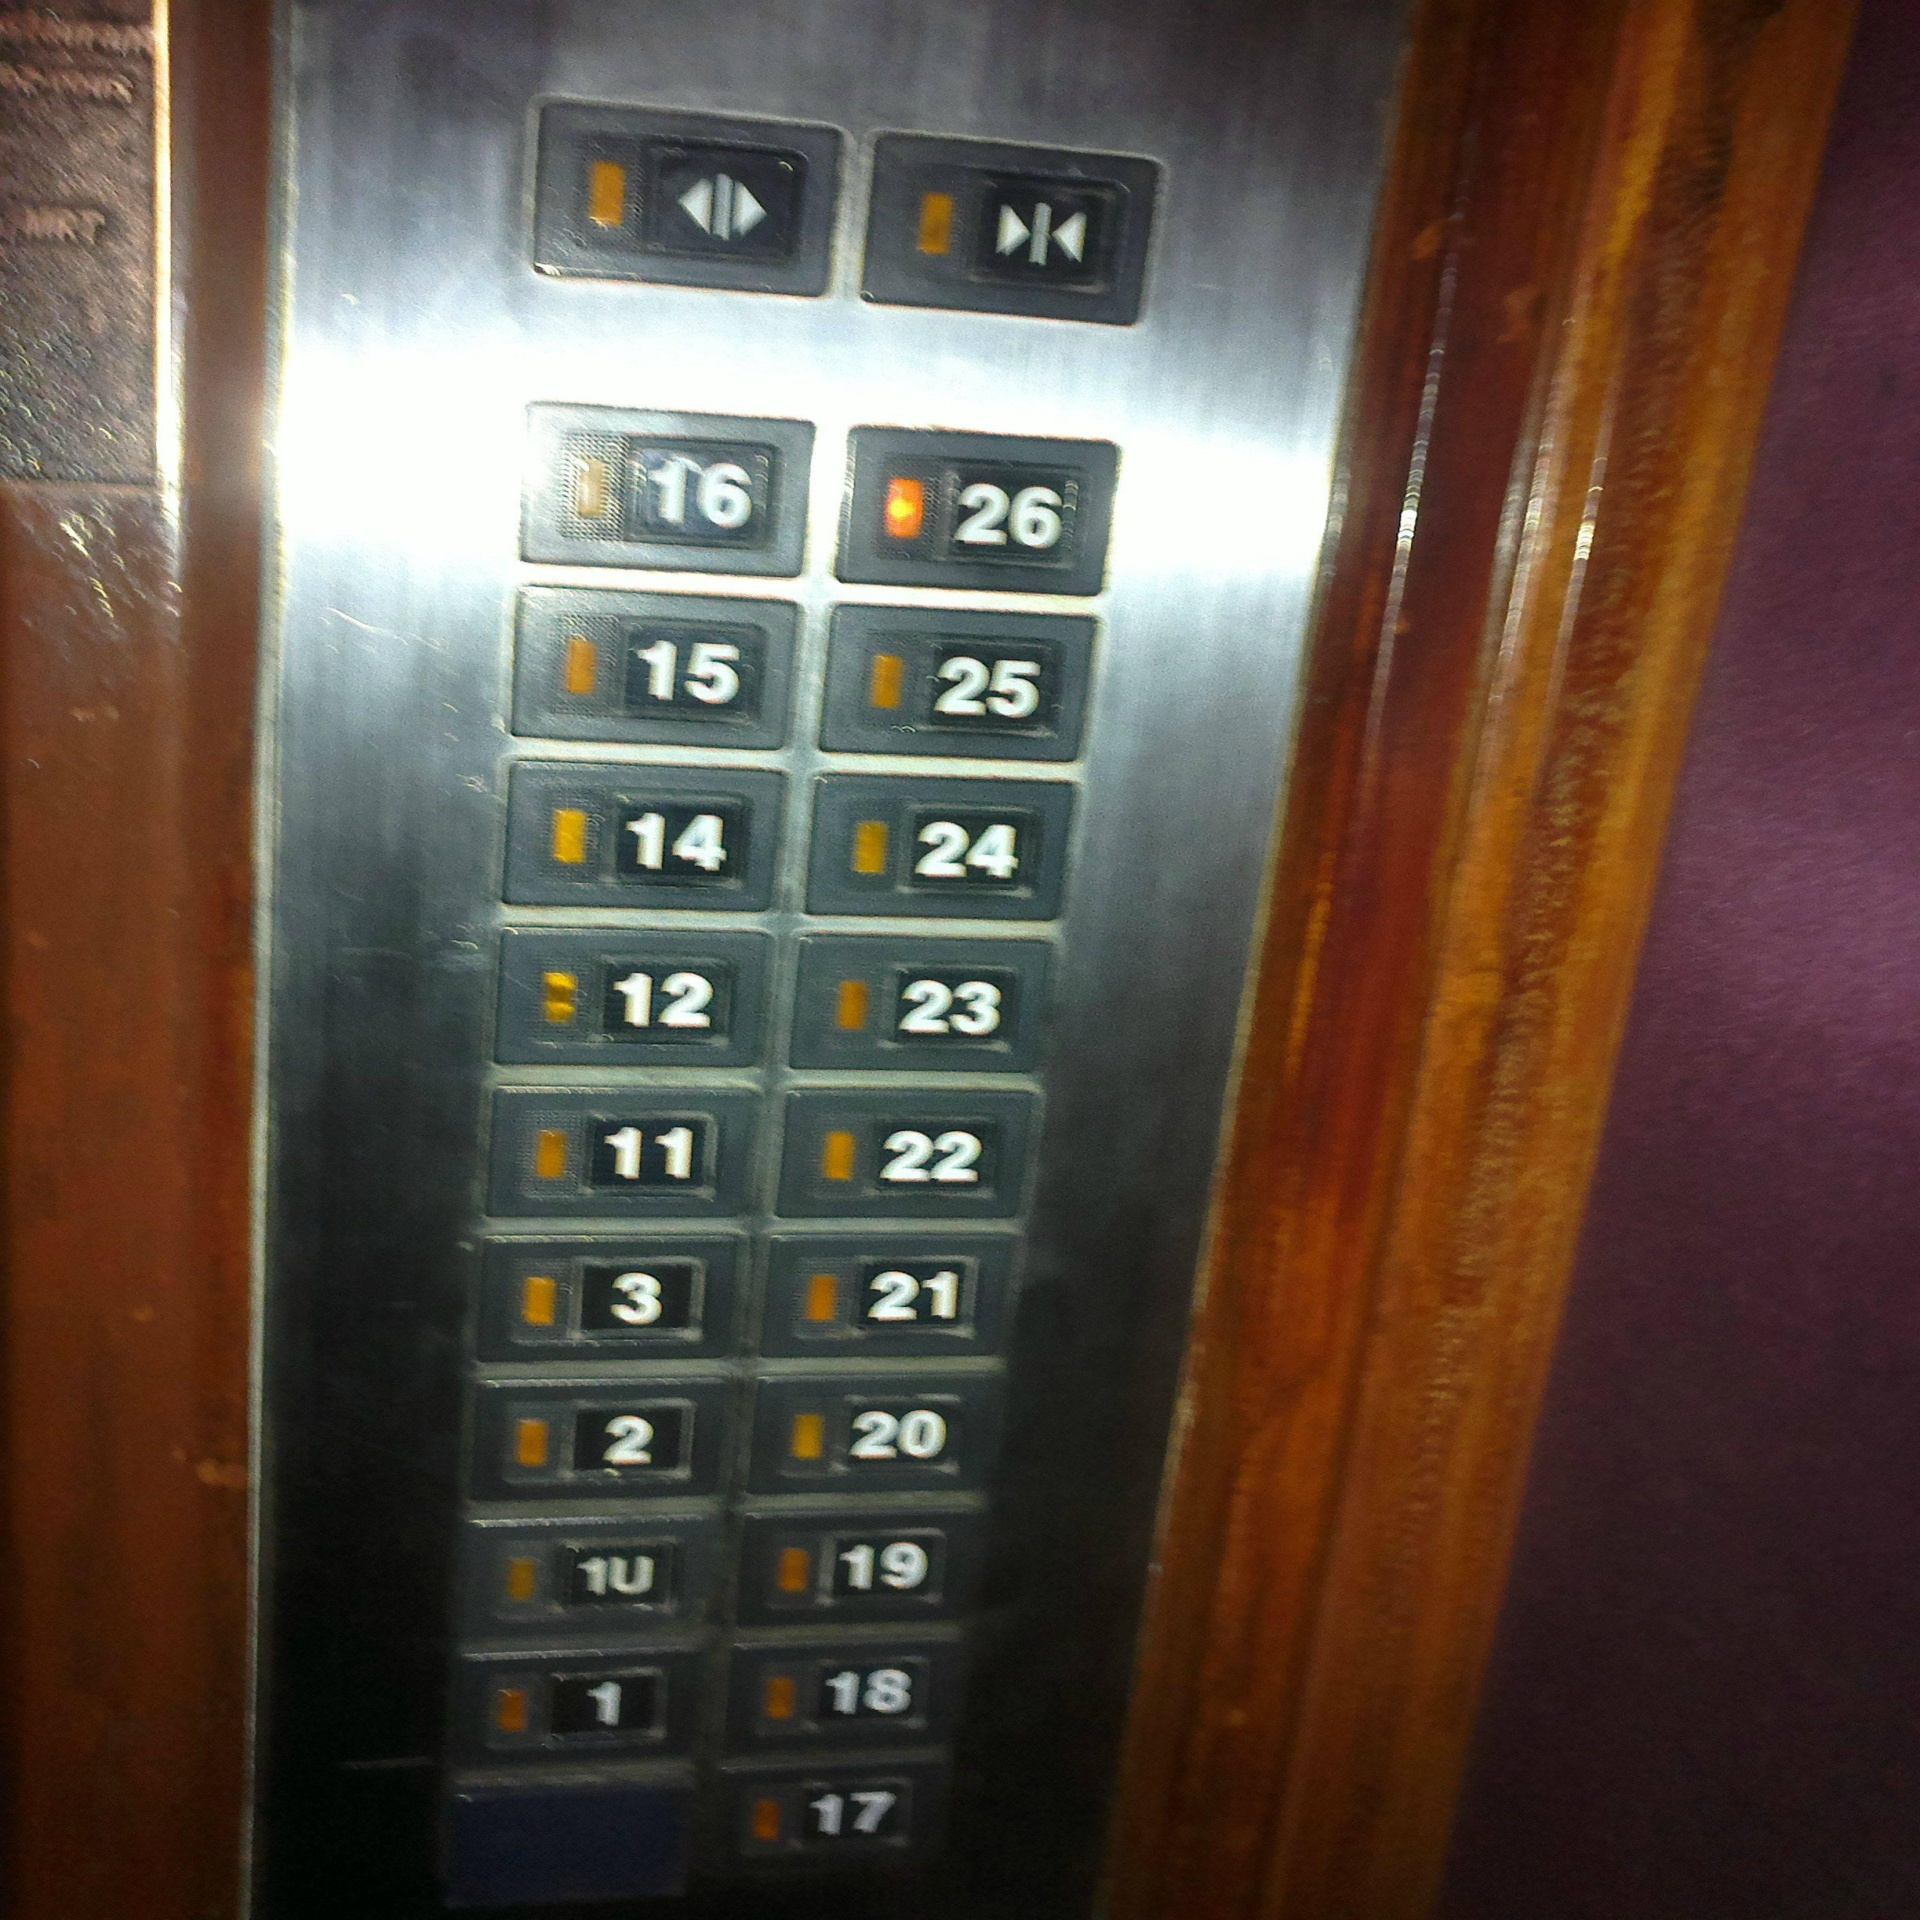1: (431, 1644, 726, 1776)
11: (476, 1071, 775, 1229)
12: (484, 921, 786, 1083)
14: (494, 754, 795, 921)
15: (503, 578, 802, 754)
16: (513, 397, 819, 580)
17: (700, 1749, 969, 1880)
18: (712, 1625, 978, 1774)
19: (724, 1495, 999, 1642)
1U: (440, 1505, 733, 1646)
2: (448, 1364, 753, 1507)
20: (733, 1364, 1016, 1505)
21: (745, 1222, 1034, 1364)
22: (758, 1069, 1053, 1227)
23: (772, 925, 1071, 1085)
24: (796, 754, 1087, 927)
25: (814, 594, 1104, 770)
26: (826, 420, 1125, 600)
3: (461, 1225, 761, 1364)
close: (855, 120, 1167, 338)
open: (524, 91, 849, 308)
